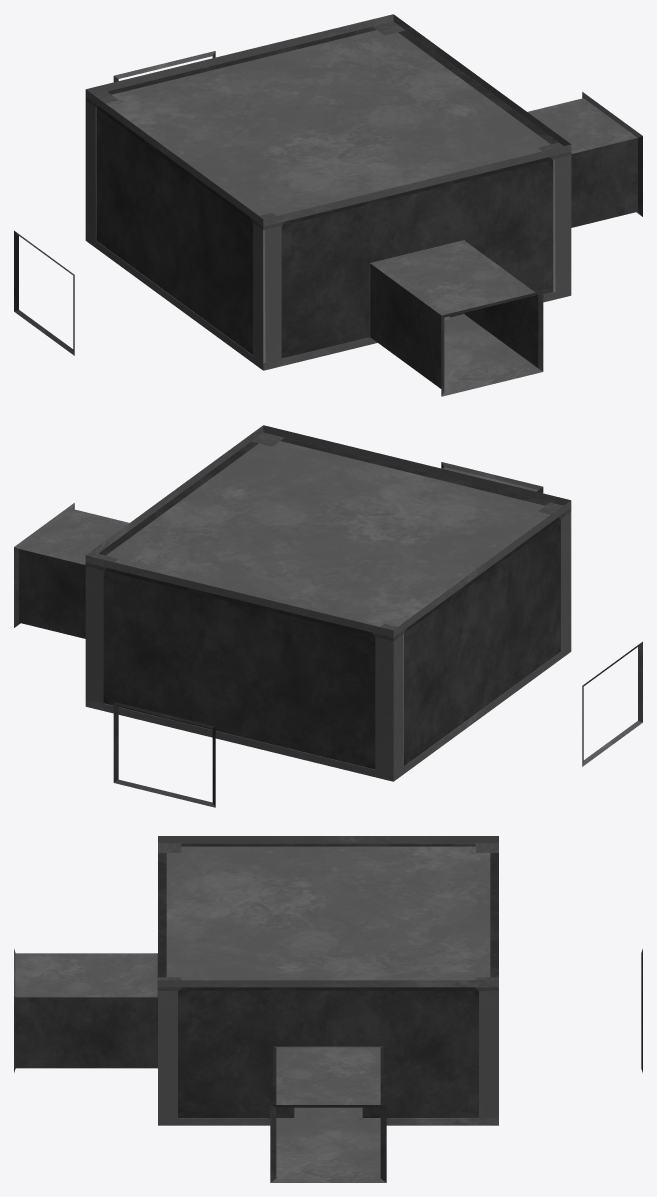
Rendered from Room_Bend.fbx.
3 renders of one model, top to bottom at view 1: azimuth 30°, elevation 25°; view 2: azimuth 150°, elevation 25°; view 3: azimuth 270°, elevation 25°, orthographic. The views are drawn at different scales.
Parts seen in each view (by area): view 1: Room_Exit_Bend_V5; view 2: Room_Exit_Bend_V5; view 3: Room_Exit_Bend_V5.
Boxes of the visible parts, box(x1,y1,x2,y2) form: Room_Exit_Bend_V5: box(14, 14, 642, 396); Room_Exit_Bend_V5: box(14, 425, 642, 807); Room_Exit_Bend_V5: box(14, 836, 642, 1182).
Size of the model in its own units: 80.56 by 20.5 by 80.43.
